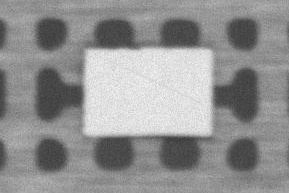DIE_CRACK: (159, 39, 289, 68)
